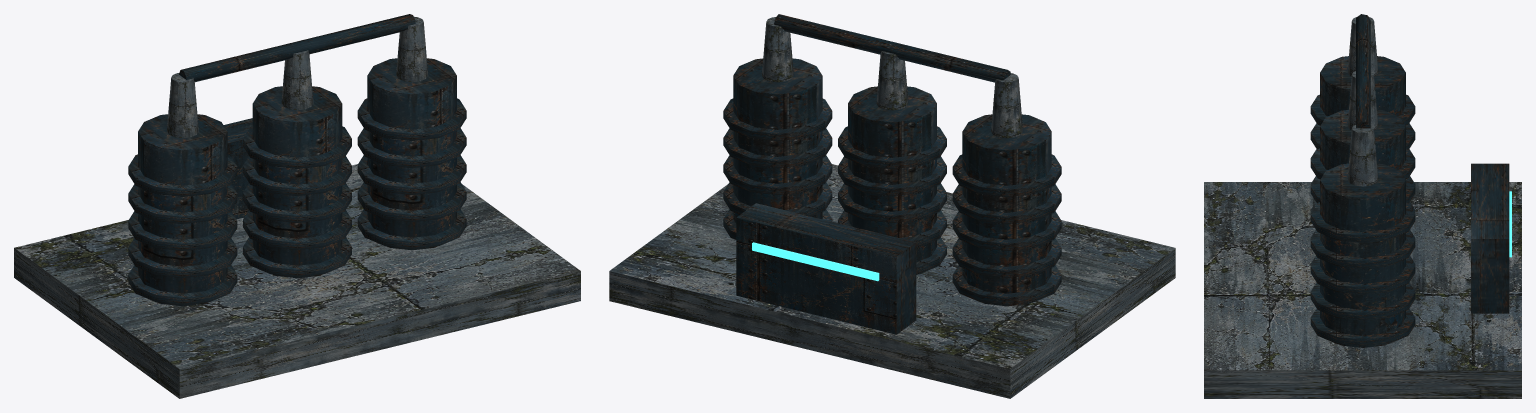
File: generator.glb
The picture shows the model from 3 angles, left to right: view 1: azimuth 30°, elevation 25°; view 2: azimuth 150°, elevation 25°; view 3: azimuth 270°, elevation 25°; orthographic projection. The views are drawn at different scales.
Parts seen in each view (by area): view 1: generator-steel, generator-concrete; view 2: generator-steel, generator-concrete, generator-lamp; view 3: generator-concrete, generator-steel.
Part boxes in pixels (bbox=[...]): generator-steel: bbox=[128, 14, 466, 306]; generator-concrete: bbox=[14, 16, 580, 398]; generator-steel: bbox=[723, 14, 1061, 334]; generator-concrete: bbox=[609, 17, 1175, 398]; generator-lamp: bbox=[752, 242, 879, 281]; generator-concrete: bbox=[1204, 17, 1521, 398]; generator-steel: bbox=[1310, 14, 1509, 347].
Bounding box in the file's own units: 7 × 4.12 × 5.
3 materials, 2 textured.
